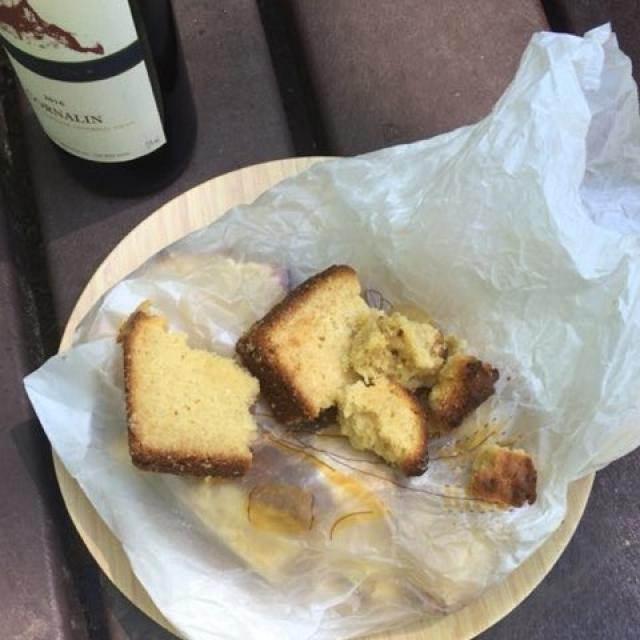tart: (130, 267, 540, 515)
